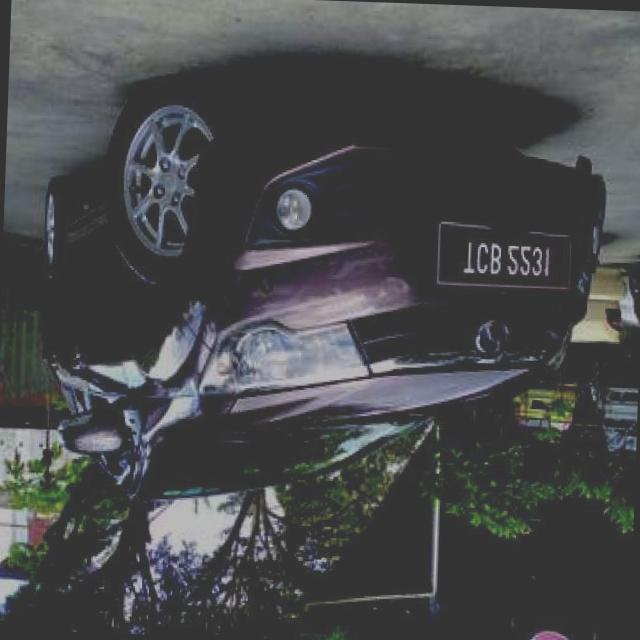PeroduaBezza: (30, 77, 611, 519)
